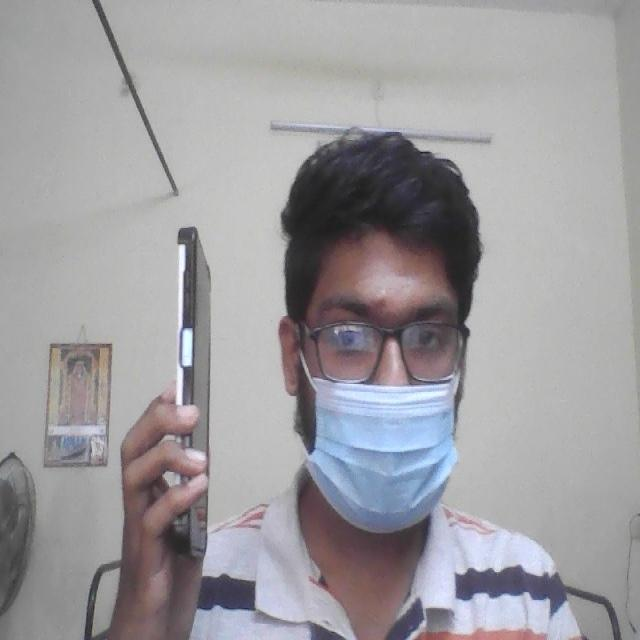Mobile: (167, 218, 214, 565)
